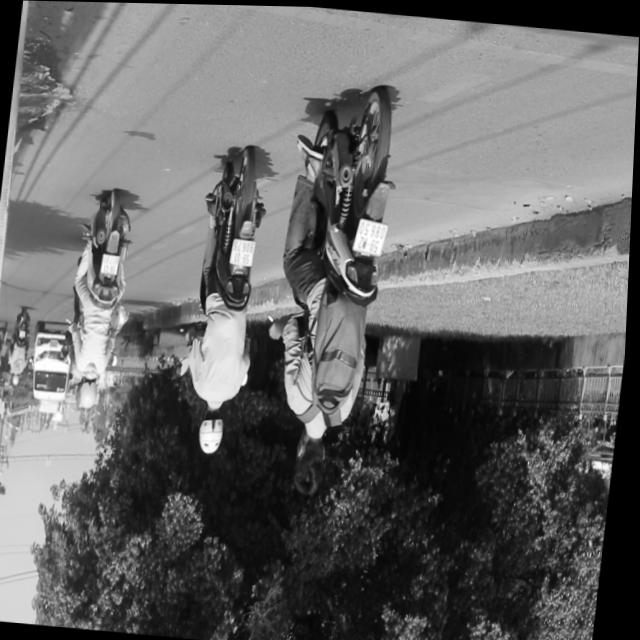helmet: (199, 403, 232, 455), (80, 376, 102, 409)
licenseplate: (254, 74, 410, 504), (178, 144, 279, 457), (62, 188, 141, 412)
motorcyclist: (292, 427, 333, 496)
nohelmet: (354, 216, 389, 254), (230, 236, 257, 264), (102, 252, 121, 275)
